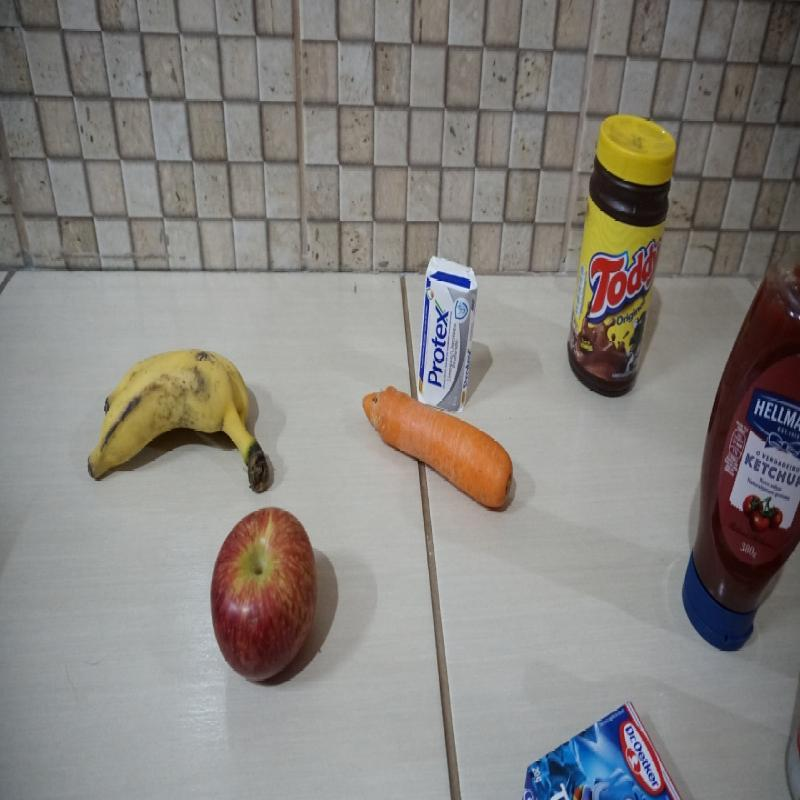Apple: (209, 502, 318, 676)
Banana: (92, 345, 275, 496)
Carrot: (359, 388, 516, 510)
Chocolate Powder: (565, 105, 674, 395)
Gelatine: (516, 705, 686, 797)
Ketchup: (683, 255, 798, 653)
Soap: (418, 248, 478, 379)
